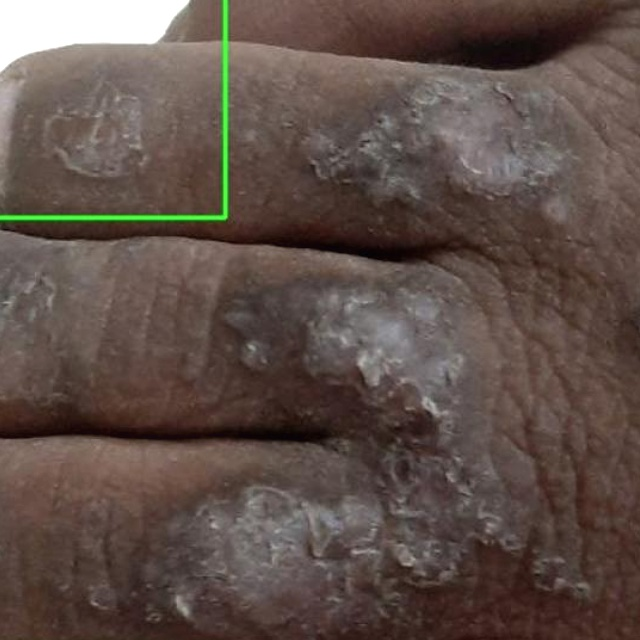Contact Dermatitis: (0, 0, 225, 217)
